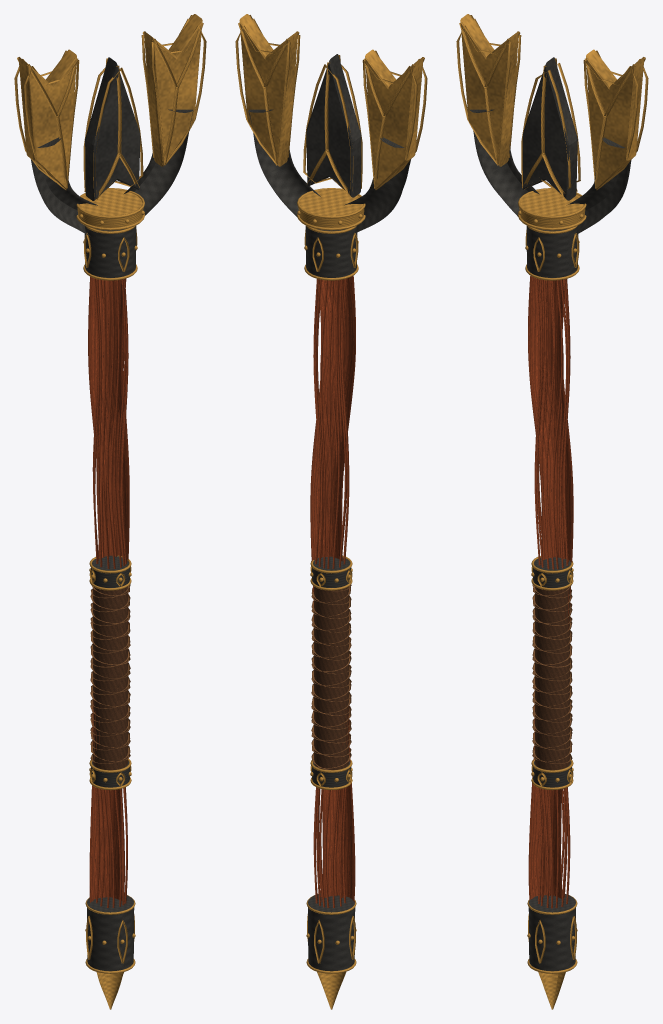
Rendered from regent_staff.glb.
3 renders of one model, left to right at view 1: azimuth 30°, elevation 25°; view 2: azimuth 150°, elevation 25°; view 3: azimuth 330°, elevation 25°, orthographic.
Parts seen in each view (by area): view 1: Worn crown gold, Polished red teak, Black furnace iron, Worn wrapped grip, Leather strap burnished edges; view 2: Worn crown gold, Polished red teak, Black furnace iron, Worn wrapped grip, Leather strap burnished edges; view 3: Worn crown gold, Polished red teak, Black furnace iron, Worn wrapped grip, Leather strap burnished edges.
Boxes of the visible parts, <box> form: Worn crown gold: <box>14,14,206,1009</box>; Polished red teak: <box>88,276,129,907</box>; Black furnace iron: <box>31,57,193,971</box>; Worn wrapped grip: <box>93,586,127,770</box>; Leather strap burnished edges: <box>90,584,130,763</box>; Worn crown gold: <box>235,14,427,1009</box>; Polished red teak: <box>310,276,355,907</box>; Black furnace iron: <box>248,54,410,971</box>; Worn wrapped grip: <box>314,586,348,770</box>; Leather strap burnished edges: <box>311,579,351,770</box>; Worn crown gold: <box>456,14,648,1009</box>; Polished red teak: <box>528,276,573,908</box>; Black furnace iron: <box>469,57,631,971</box>; Worn wrapped grip: <box>535,586,569,770</box>; Leather strap burnished edges: <box>532,584,572,763</box>.
Size of the model in its own units: 0.3726 by 1.9 by 0.1254.
5 materials, 5 textured.
